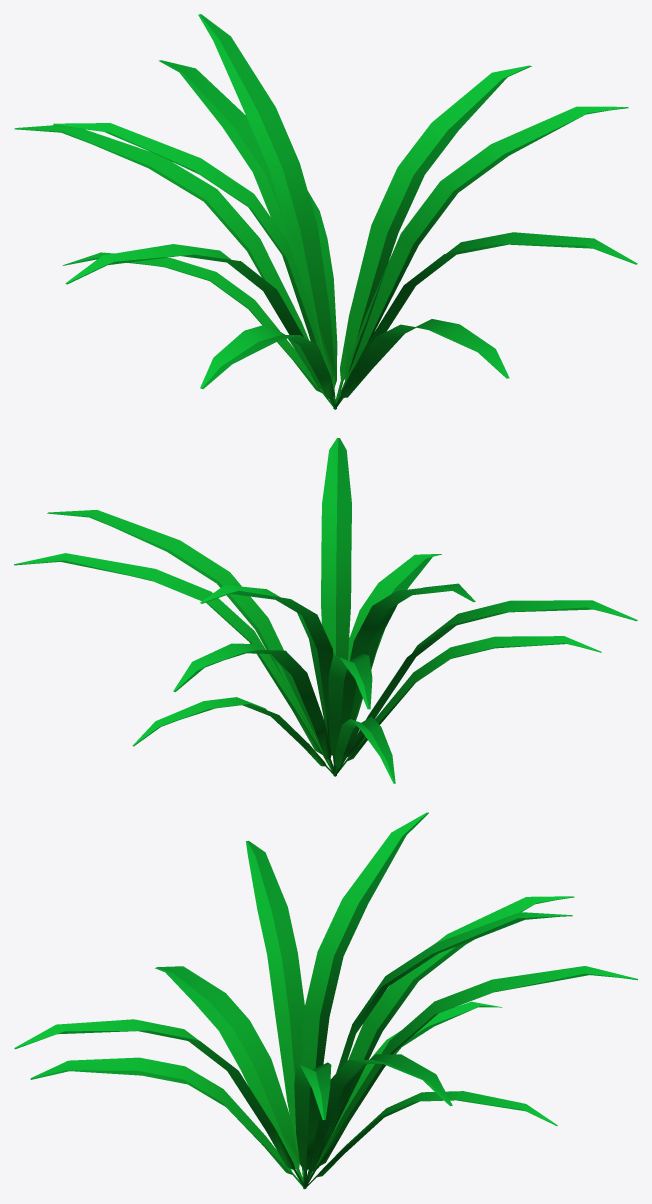
Rendered from Foliage_6.fbx.
The picture shows the model from 3 angles, top to bottom: view 1: azimuth 30°, elevation 25°; view 2: azimuth 150°, elevation 25°; view 3: azimuth 270°, elevation 25°; orthographic projection. The views are drawn at different scales.
Parts seen in each view (by area): view 1: Foliage_6; view 2: Foliage_6; view 3: Foliage_6.
Part boxes in pixels (x1,y1,x2,y2): Foliage_6: [14, 14, 637, 409]; Foliage_6: [14, 438, 637, 783]; Foliage_6: [14, 812, 637, 1189].
Bounding box in the file's own units: 1.22 × 0.5642 × 1.15.
